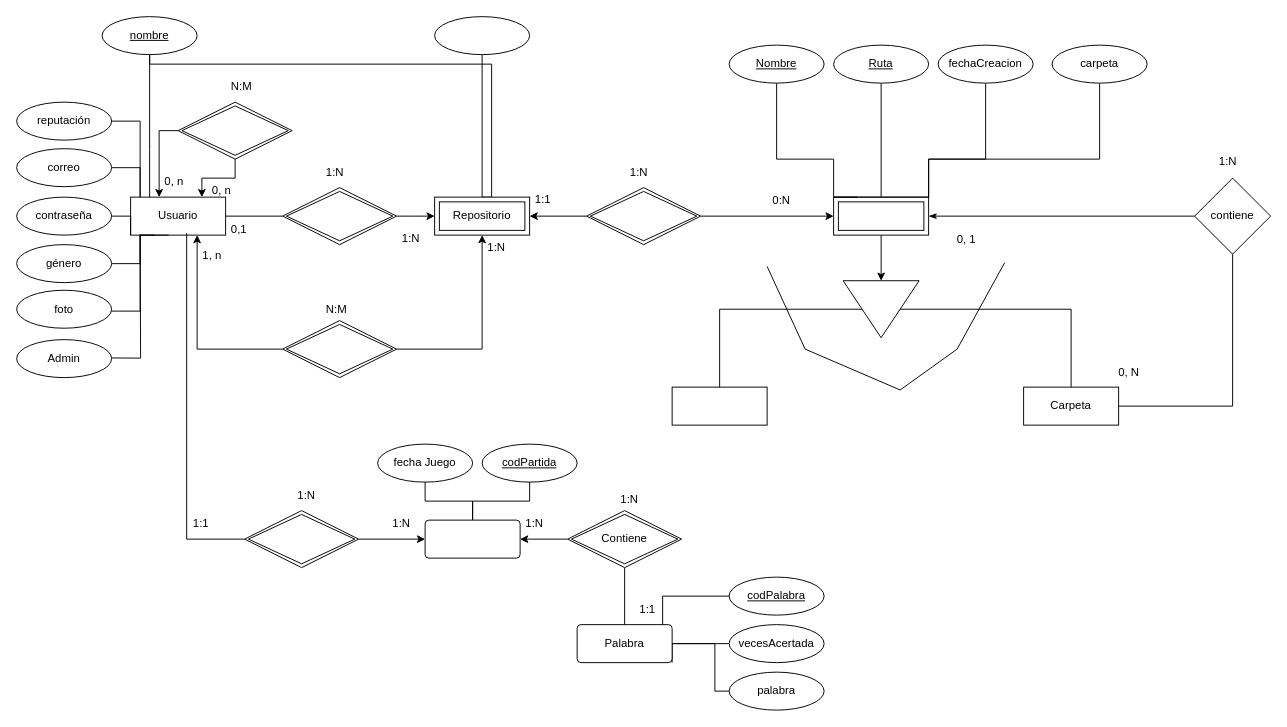
This 1287x727 diagram has some shape labels left out. The box of each missing label's shape, as (x1, y1, x2, y2) in pixels:
Archivo: (833, 196, 929, 235)
Fichero: (671, 386, 767, 425)
Incluye: (586, 187, 701, 245)
Juega: (244, 510, 359, 568)
nombre Repo: (434, 16, 530, 55)
Partida: (424, 519, 520, 558)
Posee: (282, 187, 397, 245)
solicita acceso: (177, 101, 292, 159)
Ver: (282, 320, 397, 378)
